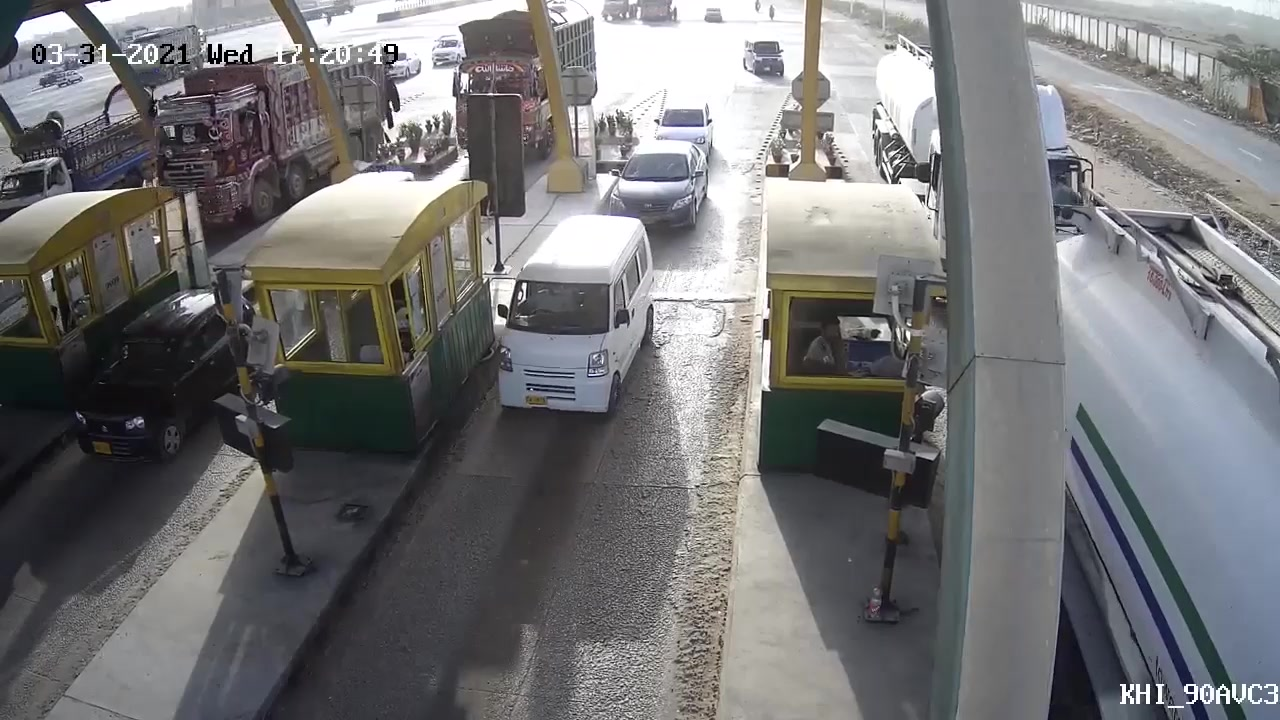F1: (477, 214, 660, 430)
